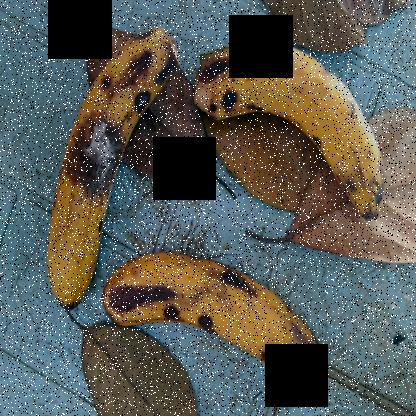overripe: (109, 239, 359, 415), (31, 29, 183, 312), (196, 36, 396, 226)
rotten: (60, 91, 148, 205)
